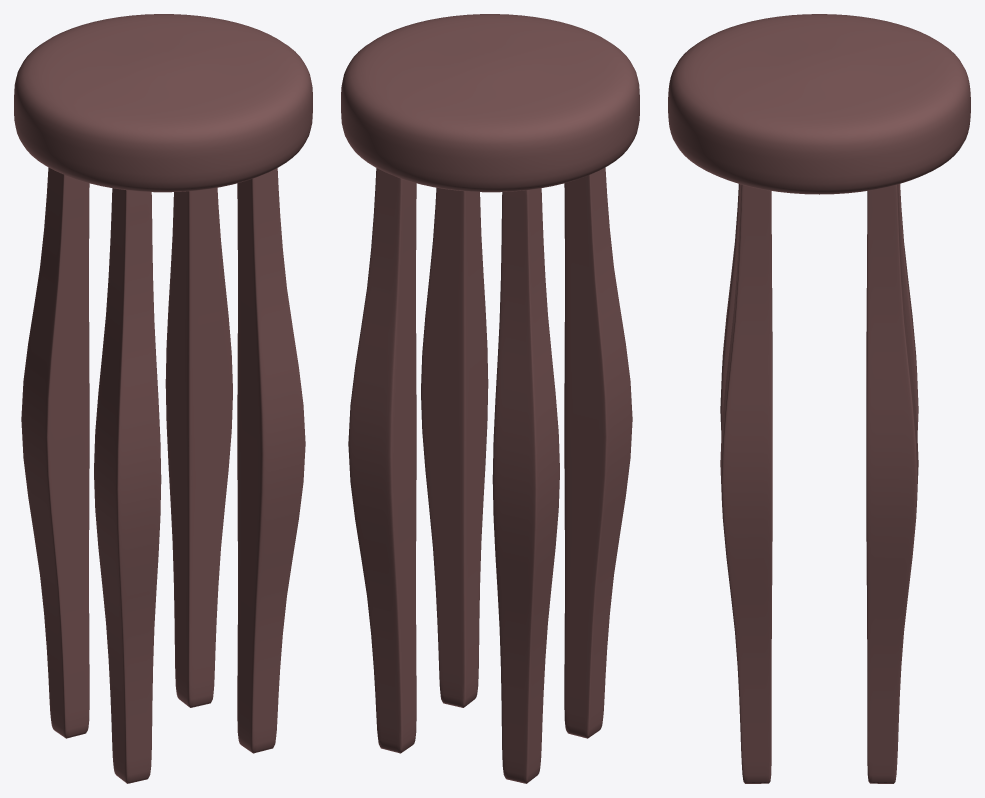
File: BarStoolFinalMesh.fbx
The picture shows the model from 3 angles, left to right: view 1: azimuth 30°, elevation 25°; view 2: azimuth 150°, elevation 25°; view 3: azimuth 270°, elevation 25°; orthographic projection.
Visible parts, largest first — view 1: Cube, Cylinder; view 2: Cube, Cylinder; view 3: Cube, Cylinder.
Part boxes in pixels (x1,y1,x2,y2): Cube: (21, 167, 305, 783); Cylinder: (14, 14, 312, 192); Cube: (348, 167, 632, 783); Cylinder: (341, 14, 639, 192); Cube: (720, 184, 918, 783); Cylinder: (668, 14, 970, 194).
Bounding box in the file's own units: 1.33 × 3.33 × 1.33.
